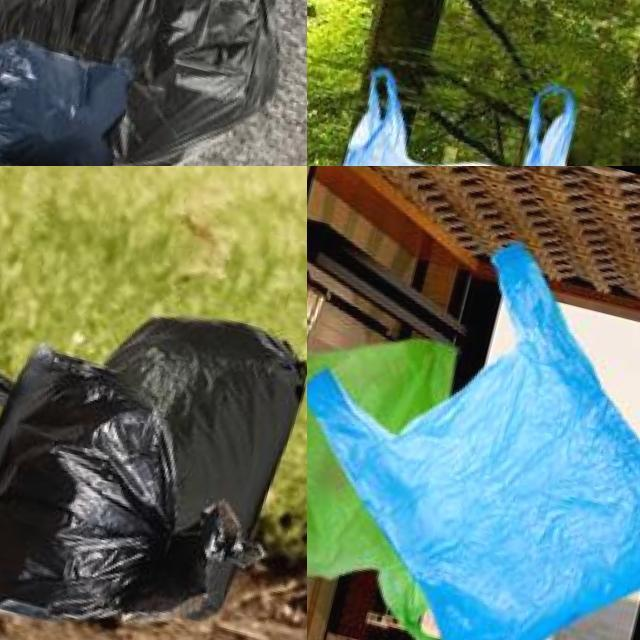waste: (307, 246, 640, 640), (0, 337, 274, 640), (307, 296, 500, 640), (0, 0, 307, 166), (307, 34, 606, 166), (0, 22, 142, 166)
